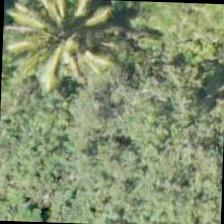Kelapa_Sawit: (25, 0, 119, 81)
